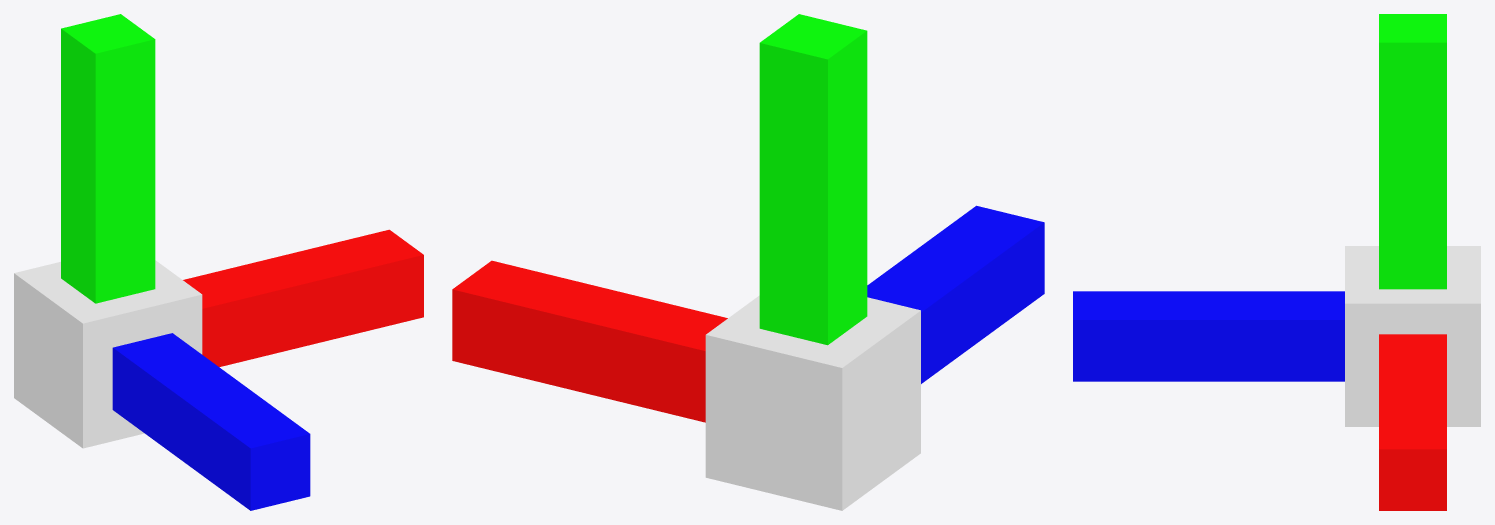
The model's file is translate_collider.glb.
3 views of the same model, side by side, from view 1: azimuth 30°, elevation 25°; view 2: azimuth 150°, elevation 25°; view 3: azimuth 270°, elevation 25° (orthographic). The views are drawn at different scales.
Visible parts, largest first — view 1: Cube.001, Cube.004, Cube.002, Cube; view 2: Cube, Cube.001, Cube.004, Cube.002; view 3: Cube.002, Cube.001, Cube, Cube.004.
Boxes of the visible parts, box(x1,y1,x2,y2) form: Cube.001: box(61, 14, 155, 303); Cube.004: box(183, 229, 423, 366); Cube.002: box(112, 333, 310, 510); Cube: box(14, 260, 202, 448); Cube: box(705, 295, 920, 510); Cube.001: box(759, 14, 867, 345); Cube.004: box(452, 260, 727, 422); Cube.002: box(867, 205, 1044, 383); Cube.002: box(1073, 291, 1344, 381); Cube.001: box(1379, 14, 1446, 289); Cube: box(1345, 246, 1480, 426); Cube.004: box(1379, 334, 1446, 510).
Bounding box in the file's own units: 1.2 × 1.2 × 1.2.
